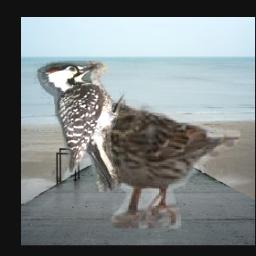Sparrow: (87, 100, 240, 229)
Woodpecker: (35, 62, 131, 193)
